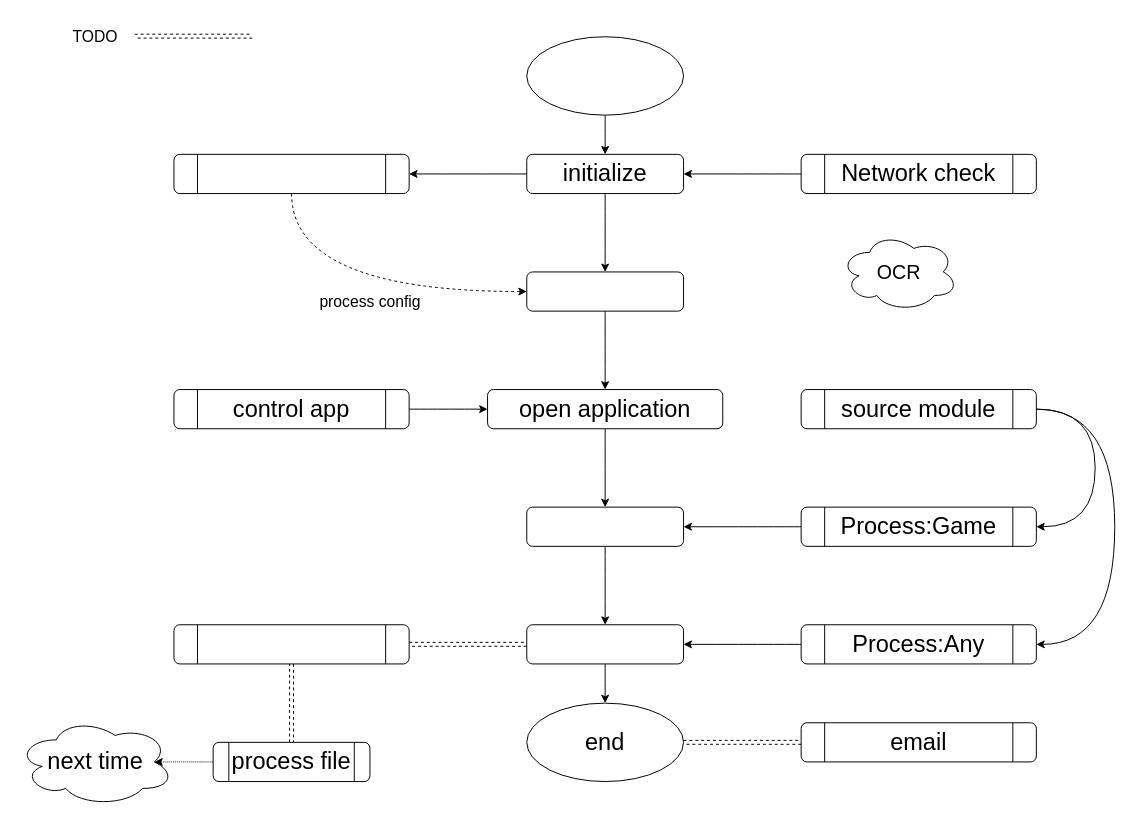
This 1132x823 diagram has some shape labels left out. The box of each missing label's shape, as (x1, y1, x2, y2) in pixels:
load config: (173, 153, 409, 194)
load process: (526, 271, 684, 311)
open game: (526, 506, 684, 546)
record: (173, 624, 409, 664)
start: (526, 36, 684, 115)
start work: (526, 624, 684, 664)
